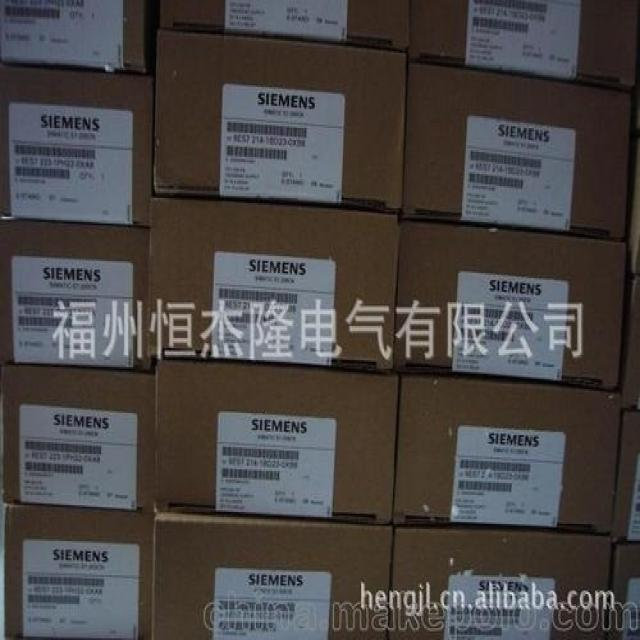box: (154, 29, 411, 212), (148, 193, 401, 372), (154, 358, 401, 524), (401, 63, 632, 239), (394, 220, 628, 393), (393, 375, 622, 536), (152, 514, 396, 640), (0, 61, 155, 227), (387, 527, 613, 640), (0, 218, 156, 372), (0, 362, 155, 512), (410, 0, 636, 90), (4, 505, 154, 640), (159, 0, 411, 49), (611, 411, 640, 543), (605, 544, 640, 640), (620, 278, 640, 411), (627, 128, 640, 275)
